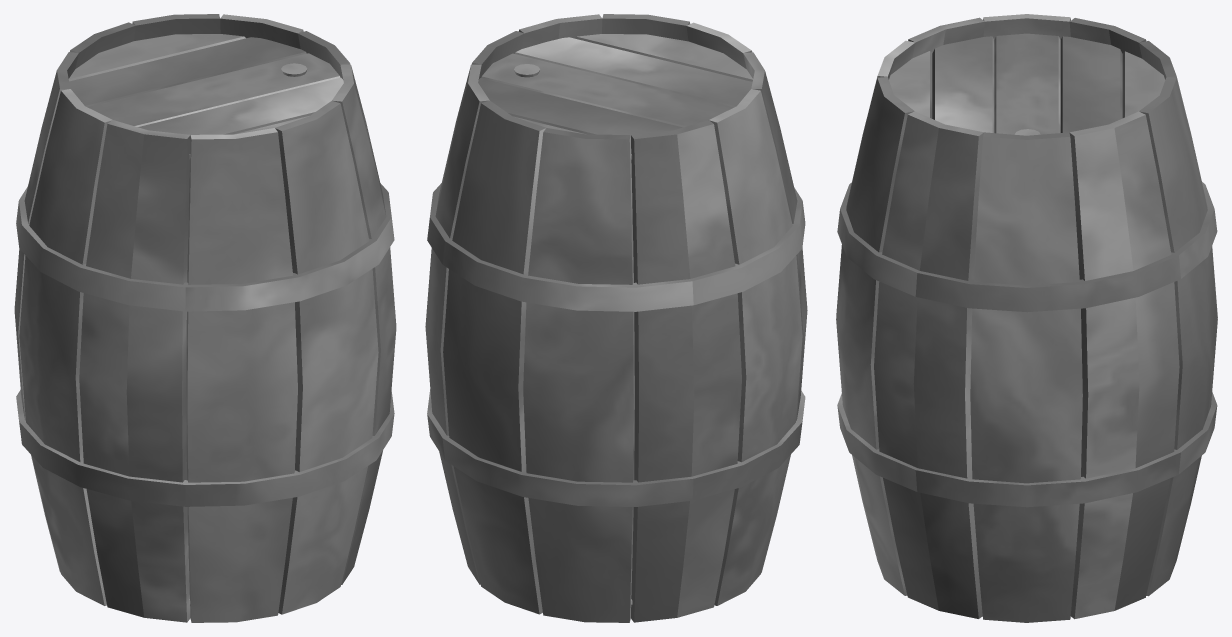
The model's file is SM_barrel_01.fbx.
3 renders of one model, left to right at view 1: azimuth 30°, elevation 25°; view 2: azimuth 150°, elevation 25°; view 3: azimuth 270°, elevation 25°, orthographic.
Parts seen in each view (by area): view 1: SM_barrel_01; view 2: SM_barrel_01; view 3: SM_barrel_01.
Part boxes in pixels (left/top/right/bottom): SM_barrel_01: left=14, top=14, right=396, bottom=622; SM_barrel_01: left=425, top=14, right=807, bottom=622; SM_barrel_01: left=836, top=14, right=1217, bottom=622.
Size of the model in its own units: 64.56 by 64.16 by 89.56.
Materials: 1 (1 with a texture image).
